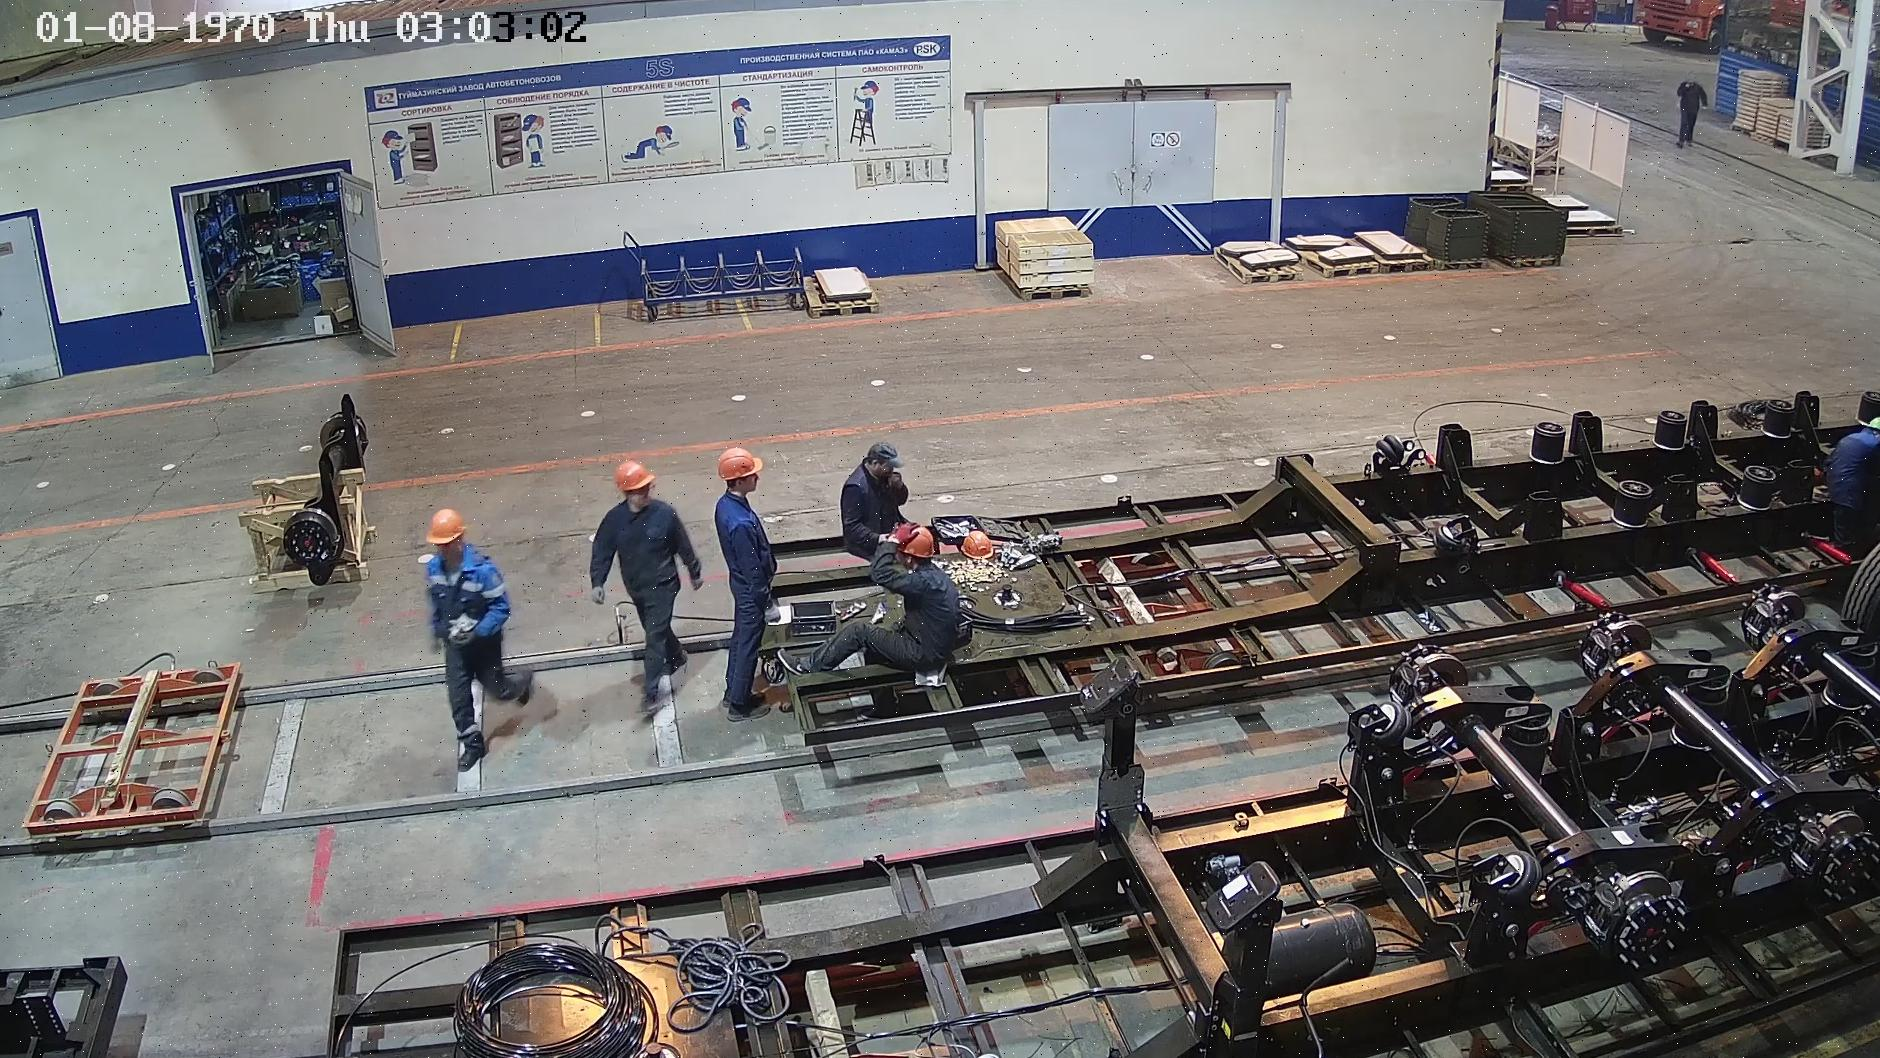helmet: (887, 514, 947, 564), (421, 502, 475, 549), (607, 456, 668, 497), (715, 448, 766, 492), (1855, 404, 1880, 440)
person: (411, 480, 553, 770), (815, 519, 980, 698), (597, 452, 688, 716), (709, 440, 782, 725), (1809, 392, 1880, 541), (841, 434, 902, 527), (1667, 66, 1708, 161)
